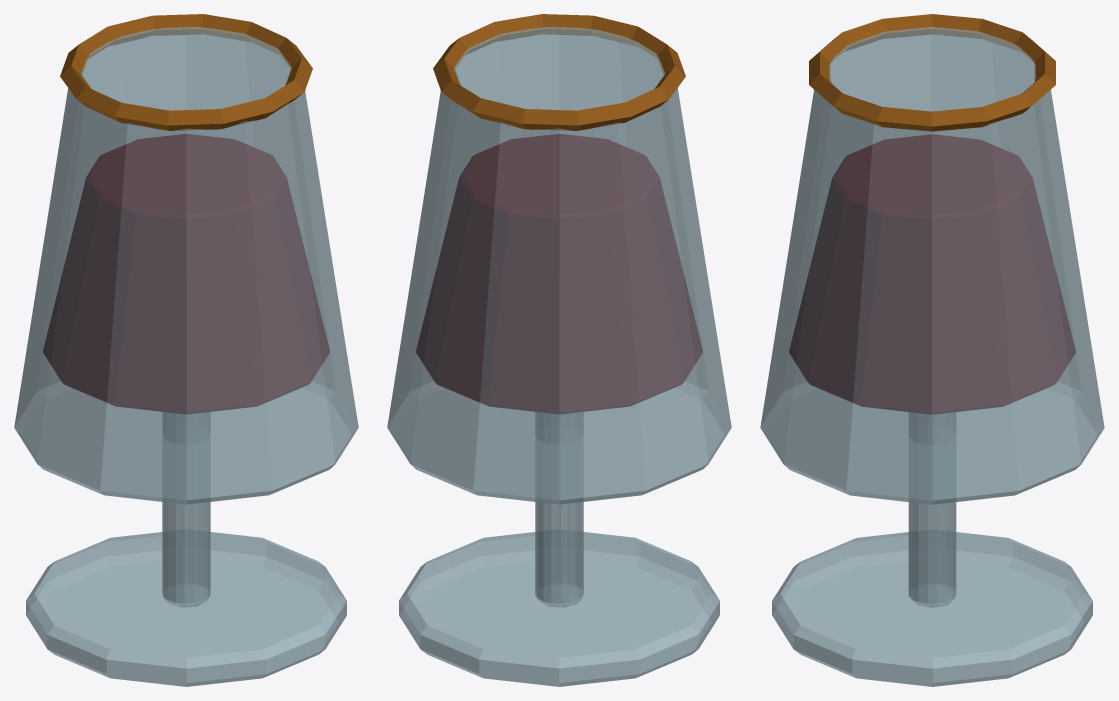
Rendered from glass_of_wine.obj.
3 views of the same model, side by side, from view 1: azimuth 30°, elevation 25°; view 2: azimuth 150°, elevation 25°; view 3: azimuth 270°, elevation 25° (orthographic).
Visible parts, largest first — view 1: Wine_Bowl.001_MAT_GlassClear, Wine_Liquid.001_MAT_Wine, Wine_Base.001_MAT_GlassClear, Wine_Rim.001_MAT_OldGold, Wine_Stem.001_MAT_GlassClear; view 2: Wine_Bowl.001_MAT_GlassClear, Wine_Liquid.001_MAT_Wine, Wine_Base.001_MAT_GlassClear, Wine_Rim.001_MAT_OldGold, Wine_Stem.001_MAT_GlassClear; view 3: Wine_Bowl.001_MAT_GlassClear, Wine_Liquid.001_MAT_Wine, Wine_Base.001_MAT_GlassClear, Wine_Rim.001_MAT_OldGold, Wine_Stem.001_MAT_GlassClear.
Part boxes in pixels (<box>): Wine_Bowl.001_MAT_GlassClear: <box>14,27,358,504</box>; Wine_Liquid.001_MAT_Wine: <box>43,134,329,414</box>; Wine_Base.001_MAT_GlassClear: <box>26,532,346,686</box>; Wine_Rim.001_MAT_OldGold: <box>60,14,312,130</box>; Wine_Stem.001_MAT_GlassClear: <box>162,412,210,607</box>; Wine_Bowl.001_MAT_GlassClear: <box>387,27,731,504</box>; Wine_Liquid.001_MAT_Wine: <box>416,134,702,414</box>; Wine_Base.001_MAT_GlassClear: <box>399,532,719,686</box>; Wine_Rim.001_MAT_OldGold: <box>433,14,685,130</box>; Wine_Stem.001_MAT_GlassClear: <box>535,412,583,607</box>; Wine_Bowl.001_MAT_GlassClear: <box>760,26,1104,504</box>; Wine_Liquid.001_MAT_Wine: <box>789,134,1075,414</box>; Wine_Base.001_MAT_GlassClear: <box>772,532,1092,686</box>; Wine_Rim.001_MAT_OldGold: <box>809,14,1055,131</box>; Wine_Stem.001_MAT_GlassClear: <box>908,412,956,607</box>.
Bounding box in the file's own units: 1.07 × 1.93 × 1.07.
